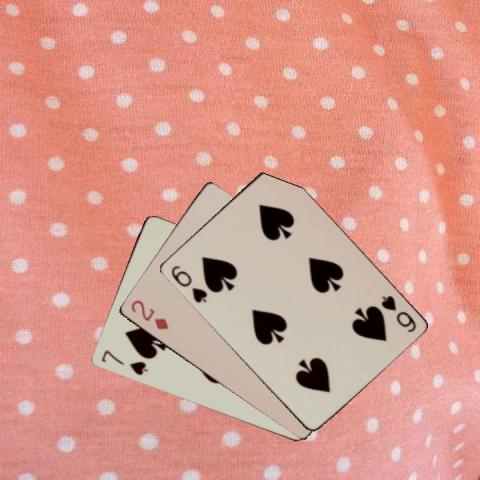2d: (127, 297, 170, 331)
6s: (167, 262, 209, 305), (378, 293, 418, 334)
7s: (98, 347, 149, 377)
